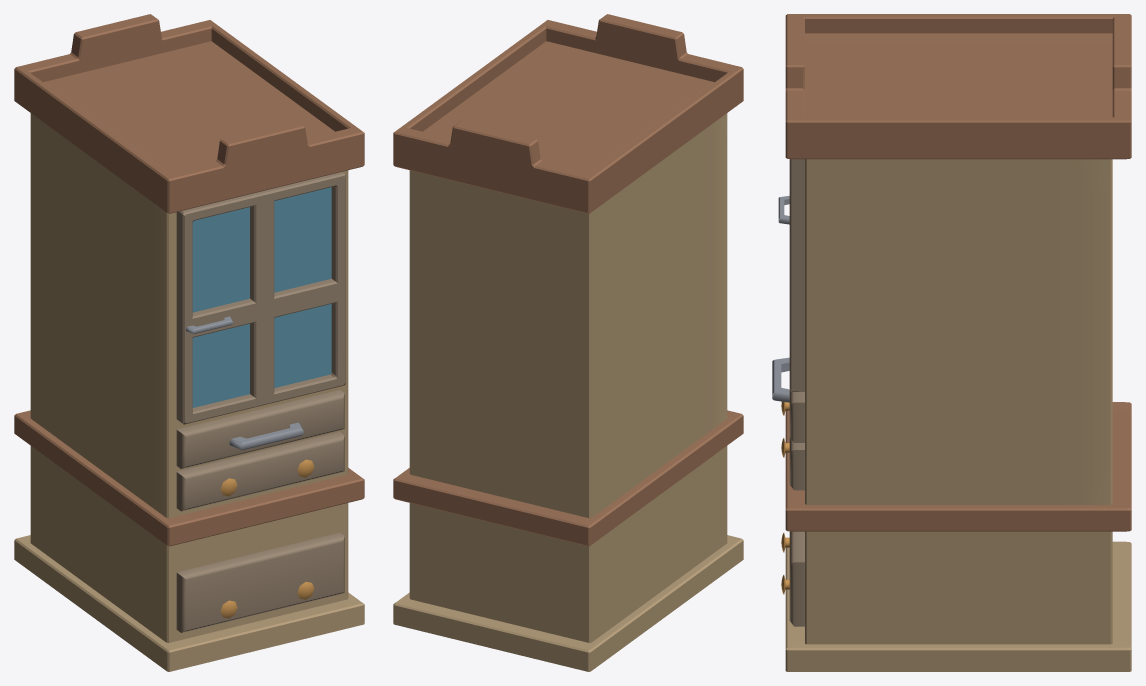
The model's file is Armadio_4.fbx.
3 views of the same model, side by side, from view 1: azimuth 30°, elevation 25°; view 2: azimuth 150°, elevation 25°; view 3: azimuth 270°, elevation 25° (orthographic). The views are drawn at different scales.
Visible parts, largest first — view 1: Armadio_4; view 2: Armadio_4; view 3: Armadio_4.
Boxes of the visible parts, box(x1,y1,x2,y2) form: Armadio_4: box(14, 14, 364, 671); Armadio_4: box(393, 14, 743, 671); Armadio_4: box(772, 14, 1131, 671).
Size of the model in its own units: 0.8447 by 2.1 by 1.19.
